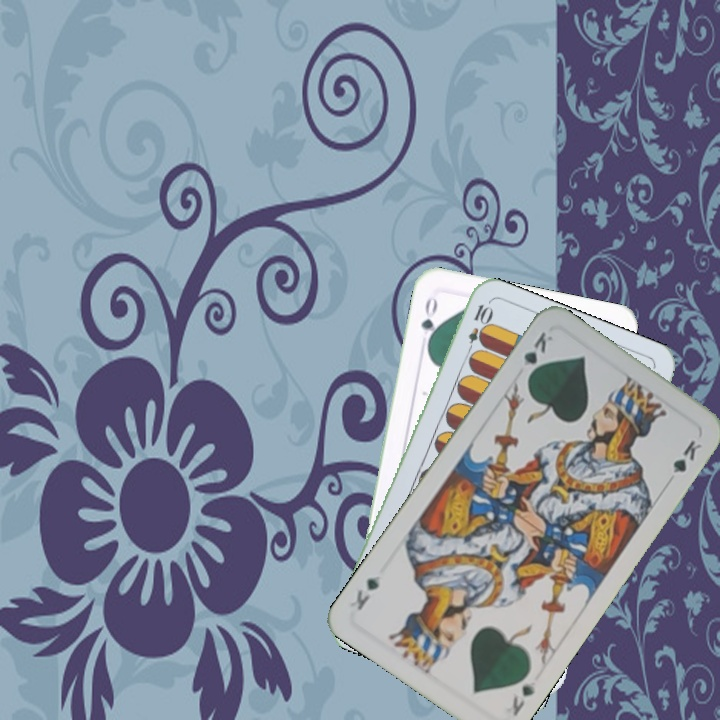E10: (462, 300, 493, 358)
GK: (519, 327, 556, 383), (508, 677, 539, 719)
GO: (417, 293, 440, 351)
